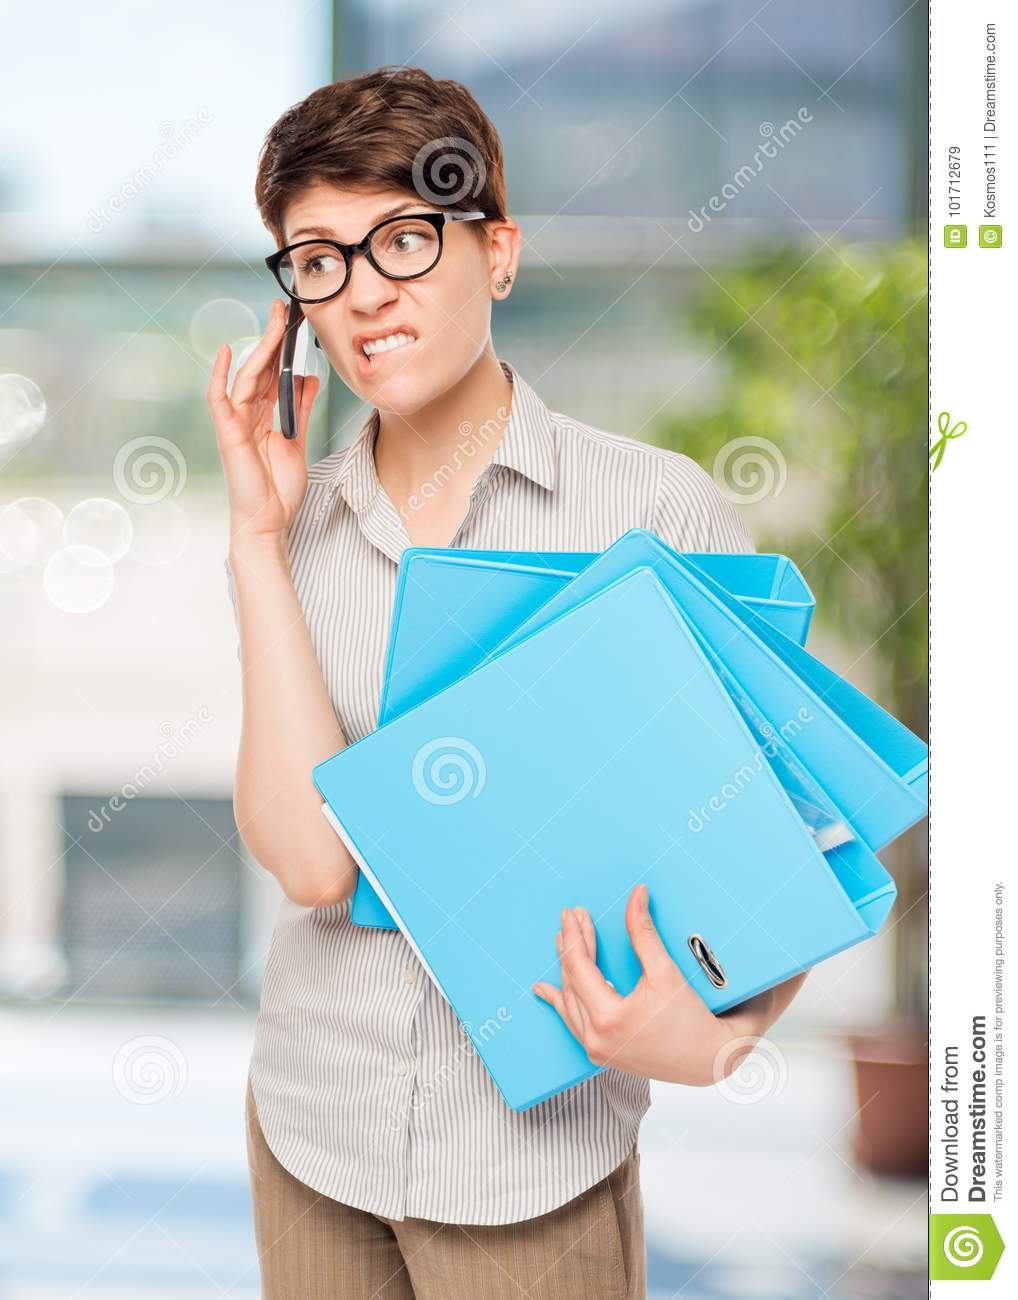phone: (263, 262, 316, 450)
talk: (209, 192, 468, 551)
